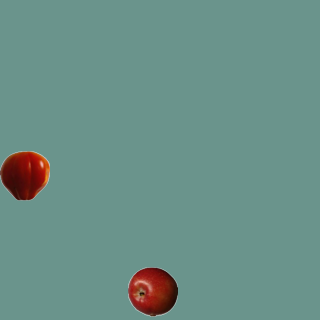Apple Braeburn: (127, 266, 177, 316)
Tomato 1: (0, 150, 49, 200)
